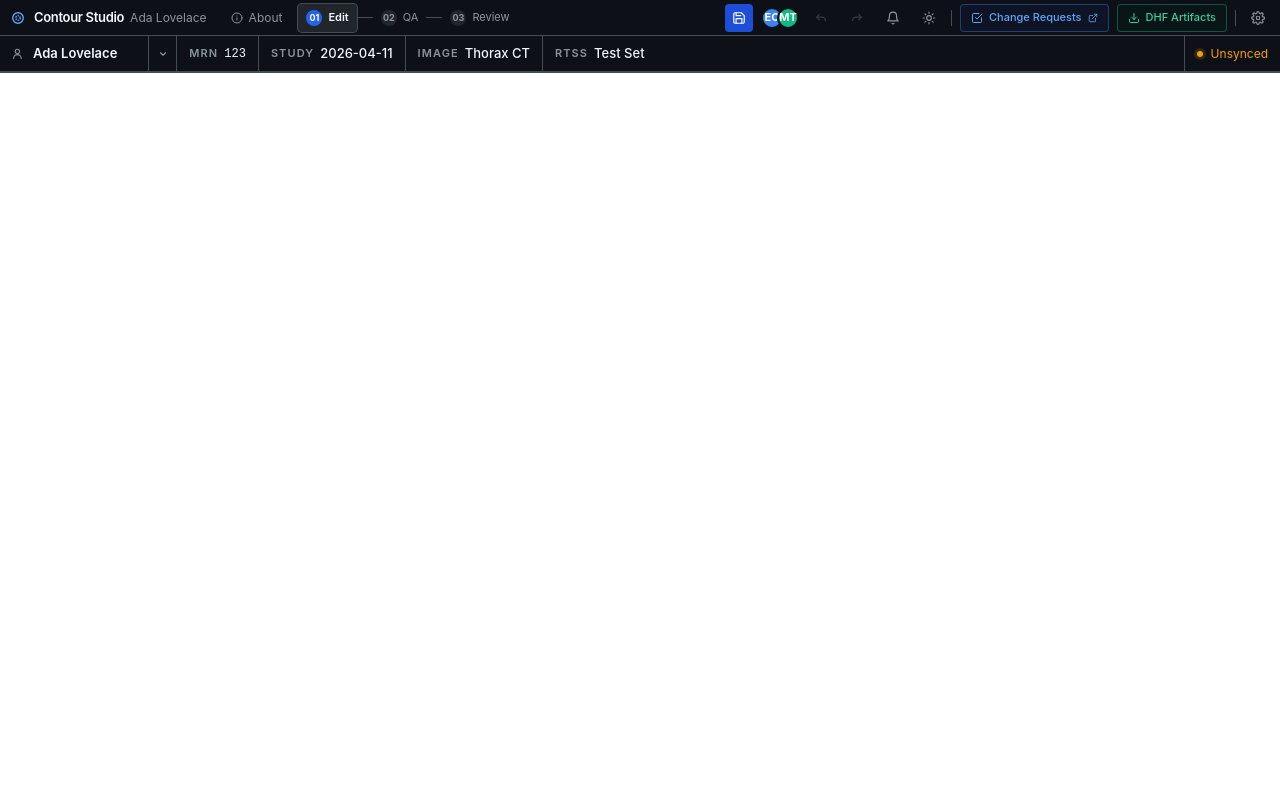
Scenario: Toolbar push to repository @links:SRS-010 › names the patient, series and repository and sends nothing until confirmed @testing:T16
The image size is (1280, 800).
What coordinates should you click on to do the following:
click the button named "Save changes"
I would click on:
 (739, 18)
Its box is [725,4,753,32].
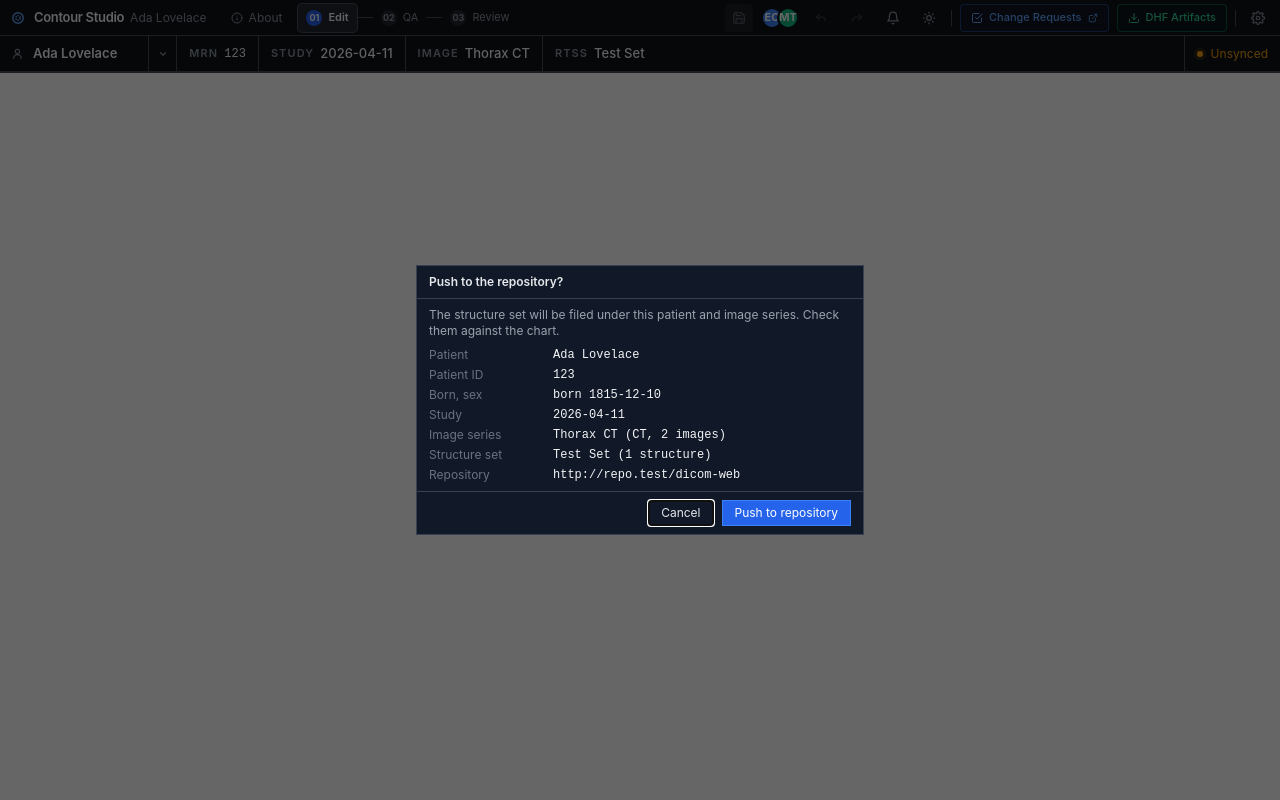
Check: the dialog shows "Ada Lovelace", box [553,348,639,362]
Check: the dialog shows "123", box [553,368,575,382]
Check: the dialog shows "Thorax CT", box [553,428,726,442]
What coordinates should you click on to do the following:
click the button "Push to repository"
I would click on:
 (786, 513)
Its box is [722,500,851,526].
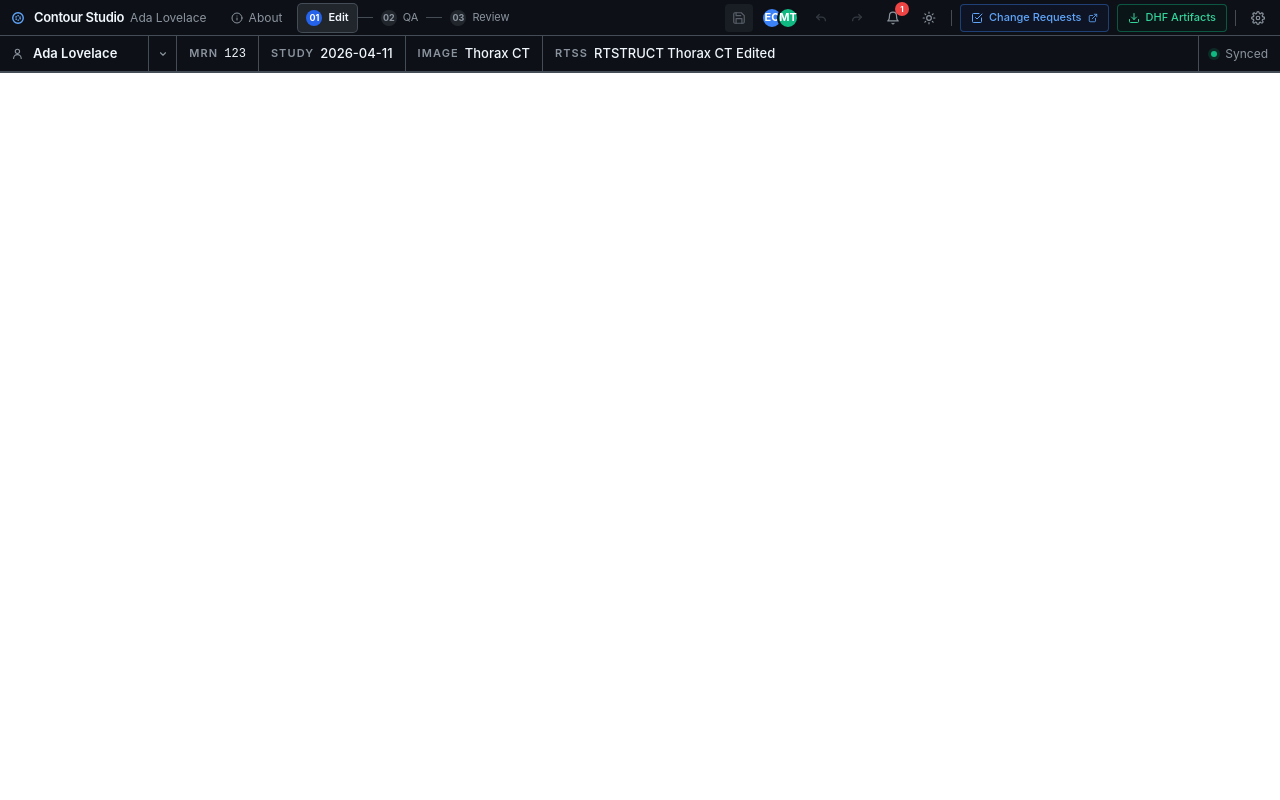
Check: the dialog is gone
